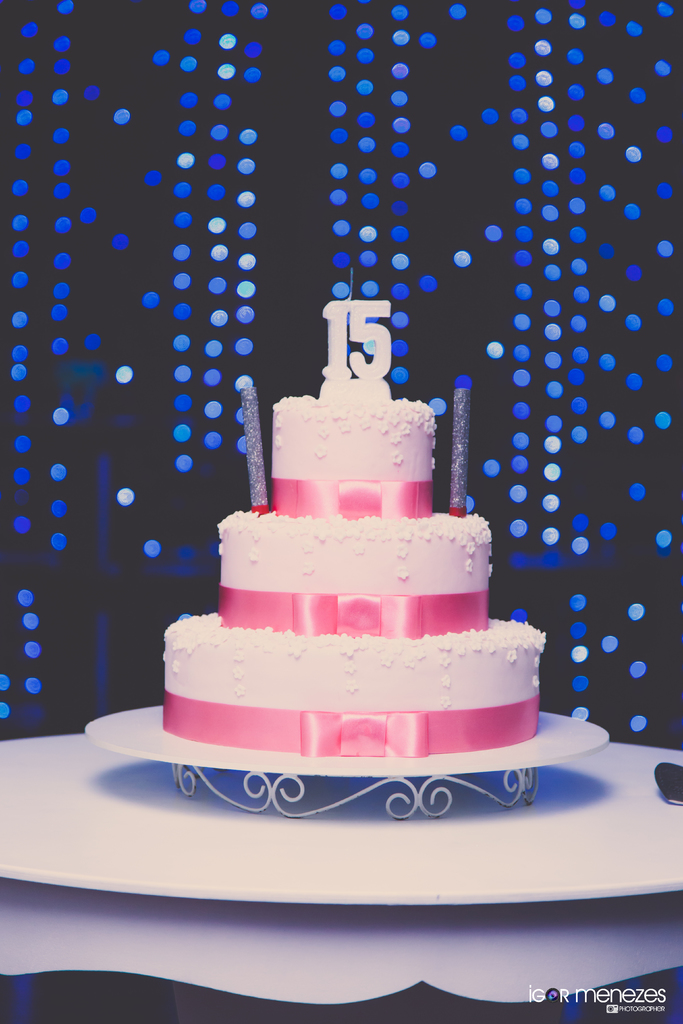cake: (164, 376, 547, 758)
